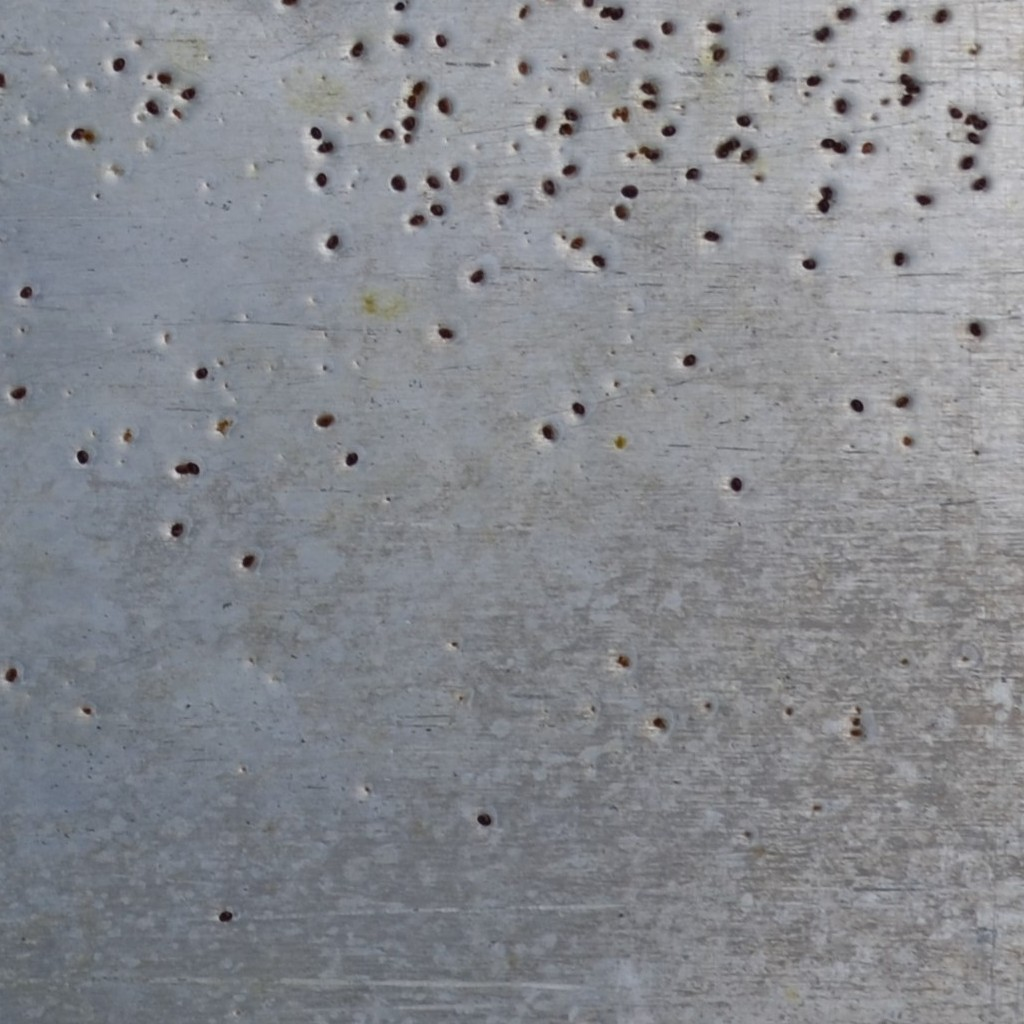varroa: (389, 168, 409, 194), (313, 409, 337, 430), (404, 207, 426, 229), (342, 446, 361, 470), (167, 516, 186, 540), (814, 21, 833, 45), (110, 53, 128, 78), (425, 165, 443, 190), (619, 181, 641, 201), (475, 808, 495, 829), (434, 95, 454, 116), (727, 473, 746, 495), (155, 66, 174, 87), (391, 28, 412, 47), (539, 419, 556, 442), (533, 111, 550, 134), (323, 232, 340, 255), (70, 121, 86, 145), (914, 189, 934, 208), (590, 252, 609, 272), (428, 199, 447, 219), (849, 395, 866, 417), (860, 136, 876, 159), (706, 17, 725, 36), (801, 255, 819, 275), (661, 120, 679, 140), (468, 267, 486, 287), (971, 175, 988, 196), (240, 550, 257, 571), (308, 119, 323, 142), (681, 348, 699, 367), (76, 446, 90, 470), (833, 93, 849, 114), (639, 80, 660, 96), (434, 27, 449, 49), (350, 39, 365, 61), (972, 115, 991, 132), (683, 164, 702, 181), (659, 19, 678, 36), (614, 202, 630, 222), (193, 362, 209, 382), (10, 382, 27, 400), (180, 83, 197, 101), (819, 184, 837, 201), (764, 65, 781, 83), (401, 114, 418, 132), (317, 139, 334, 157), (833, 137, 849, 156), (734, 111, 753, 127), (634, 35, 653, 51), (494, 190, 510, 209), (405, 92, 421, 111), (892, 248, 907, 268), (4, 665, 19, 685), (449, 162, 462, 185), (437, 324, 454, 341), (644, 145, 661, 162), (218, 906, 234, 924), (837, 5, 855, 21), (712, 45, 730, 61), (411, 78, 427, 96), (934, 6, 949, 25), (18, 281, 33, 300), (959, 153, 973, 173), (887, 7, 903, 24), (967, 320, 983, 337), (805, 72, 822, 88), (559, 121, 575, 138), (379, 123, 395, 140), (562, 162, 577, 180), (541, 177, 556, 195), (640, 97, 659, 111), (562, 106, 581, 120), (314, 169, 327, 189), (570, 400, 586, 416), (966, 128, 981, 145), (741, 146, 756, 163), (895, 393, 909, 411), (145, 98, 159, 116), (817, 198, 831, 216), (187, 457, 200, 476), (703, 229, 722, 242), (905, 82, 922, 96), (715, 143, 729, 160), (402, 127, 414, 146), (963, 111, 978, 126), (819, 135, 835, 149), (599, 3, 612, 20), (727, 137, 741, 152), (611, 6, 625, 21), (899, 92, 915, 105), (899, 51, 913, 65), (949, 106, 962, 121), (900, 69, 913, 84), (173, 461, 188, 474), (392, 1, 406, 13), (580, 0, 596, 7)
